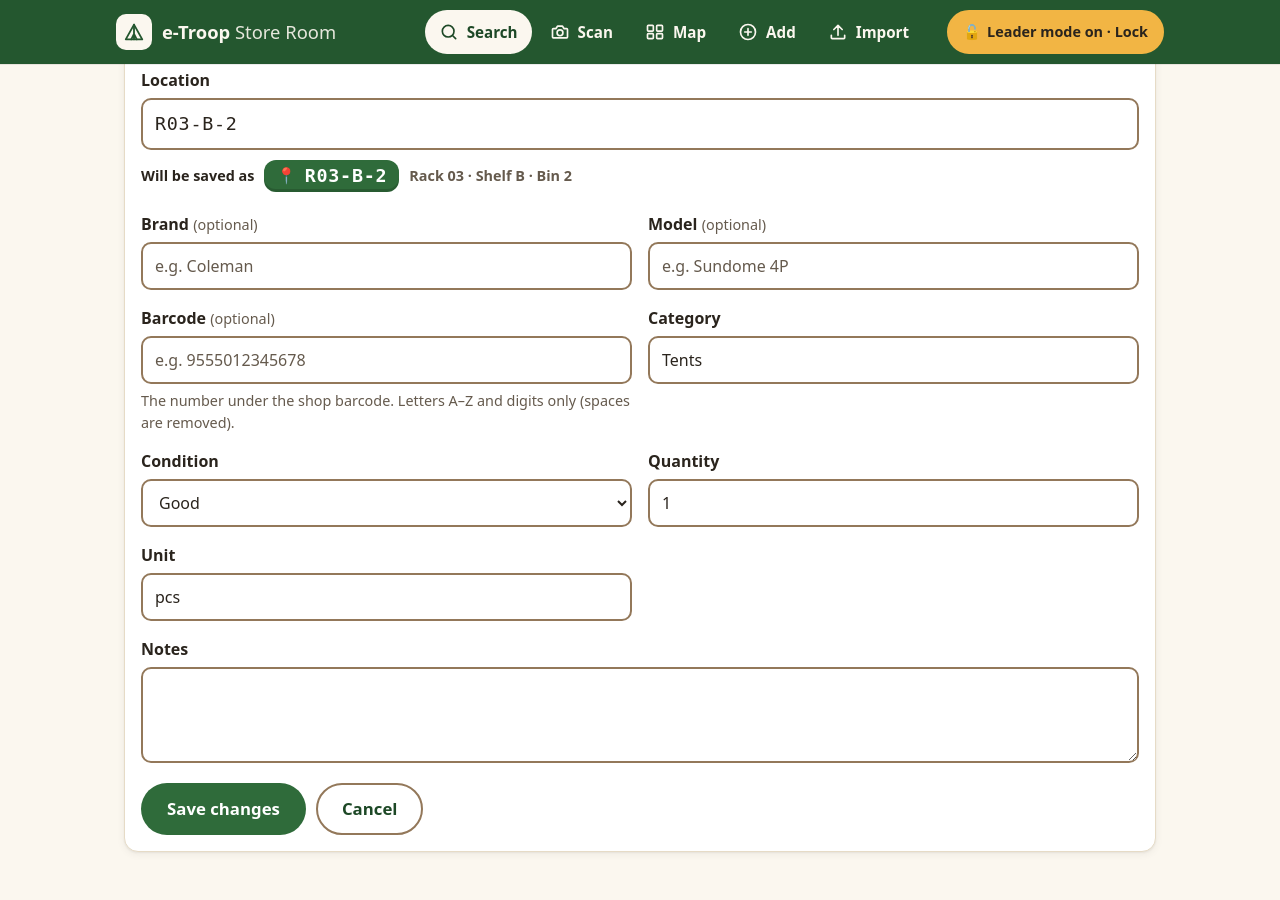
Scenario: PIN dialog (P1, Retry-After, 503, 6–8 digits) › a write answered 503 shows the same repair message
(page scrolled)
Click the button "Save changes": click(223, 809) [141, 783, 306, 835]
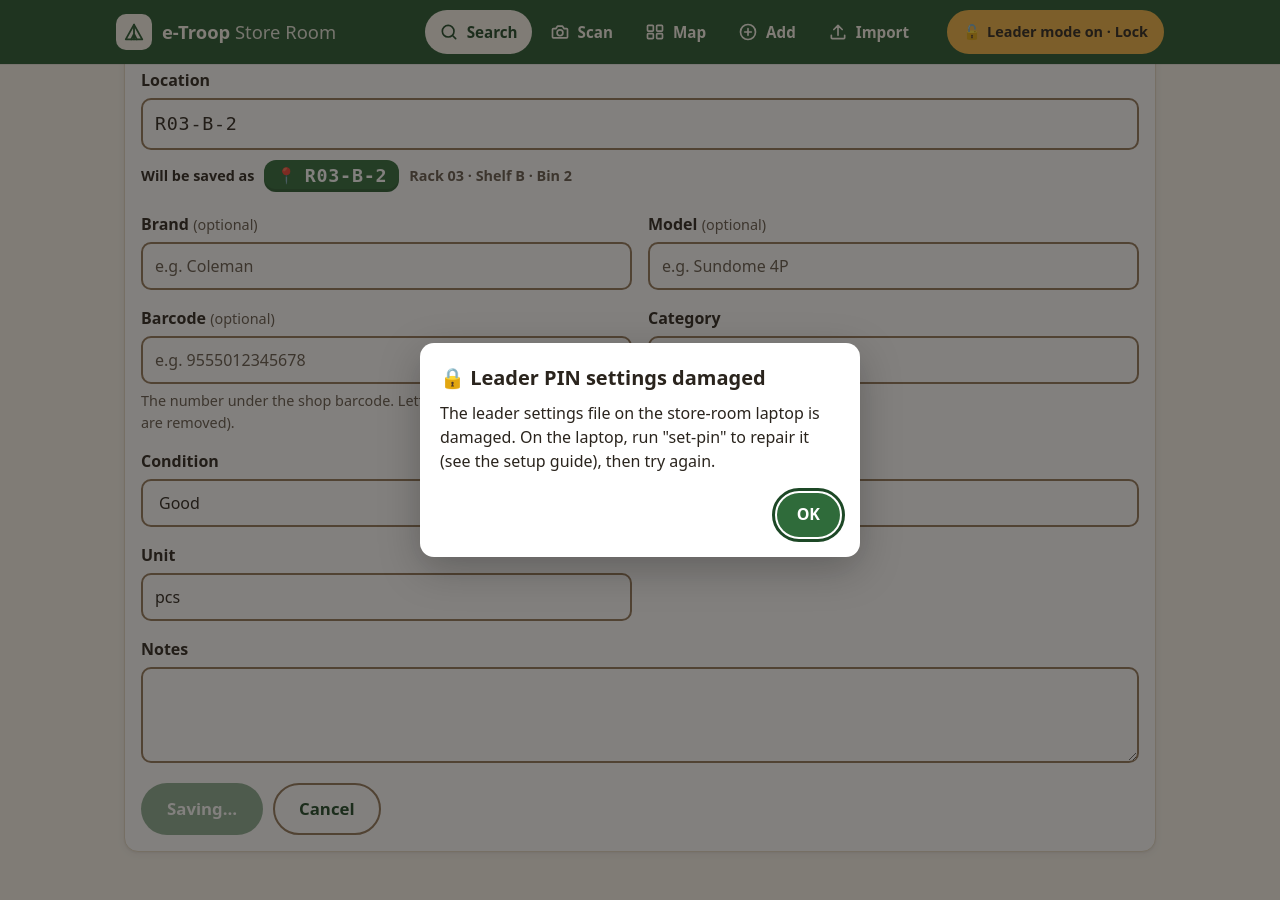
Expected: the dialog "settings damaged" is shown, [420, 343, 860, 557]
